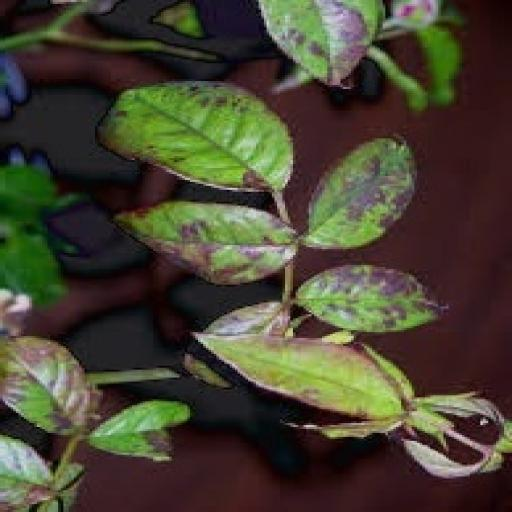downy_mildew: (101, 82, 292, 189), (196, 335, 403, 419), (117, 202, 295, 284), (304, 139, 414, 249), (259, 0, 382, 85), (296, 265, 440, 332), (0, 337, 95, 434), (88, 400, 190, 460), (0, 232, 65, 306), (0, 435, 55, 510), (415, 26, 461, 106), (404, 441, 490, 478), (0, 165, 55, 221), (206, 303, 290, 336), (293, 416, 403, 438), (45, 463, 84, 511), (183, 354, 229, 387), (497, 422, 511, 452)
